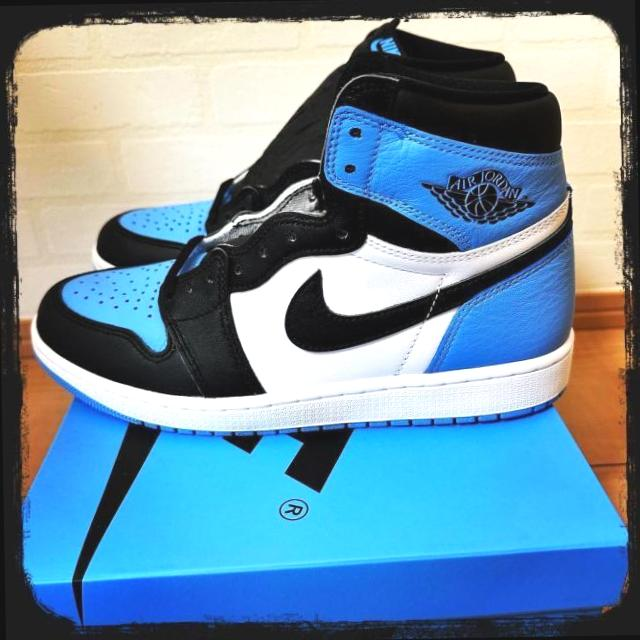nike_original_jordan: (4, 58, 574, 438), (89, 34, 552, 274), (22, 548, 623, 640)
